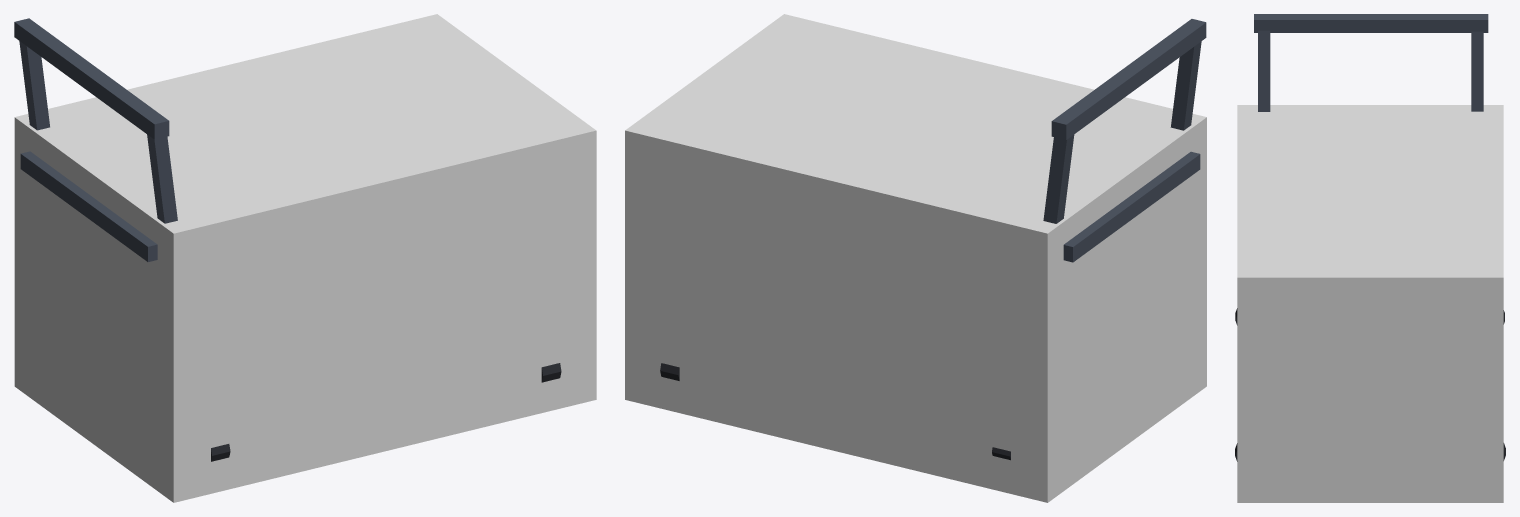
Rendered from prop_trolley_a.glb.
The picture shows the model from 3 angles, left to right: view 1: azimuth 30°, elevation 25°; view 2: azimuth 150°, elevation 25°; view 3: azimuth 270°, elevation 25°; orthographic projection. The views are drawn at different scales.
Visible parts, largest first — view 1: COL_prop_trolley_a_1, prop_trolley_a; view 2: COL_prop_trolley_a_1, prop_trolley_a; view 3: COL_prop_trolley_a_1, prop_trolley_a.
Part boxes in pixels (x1,y1,x2,y2): COL_prop_trolley_a_1: (14,14,596,502); prop_trolley_a: (14,18,561,461); COL_prop_trolley_a_1: (625,14,1206,502); prop_trolley_a: (660,19,1206,460); COL_prop_trolley_a_1: (1237,105,1503,502); prop_trolley_a: (1235,14,1505,461).
Size of the model in its own units: 1.18 by 0.9713 by 0.7623.
